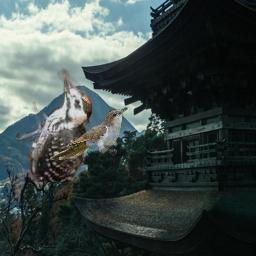Cuckoo: (49, 107, 128, 160)
Woodpecker: (16, 68, 92, 182)
